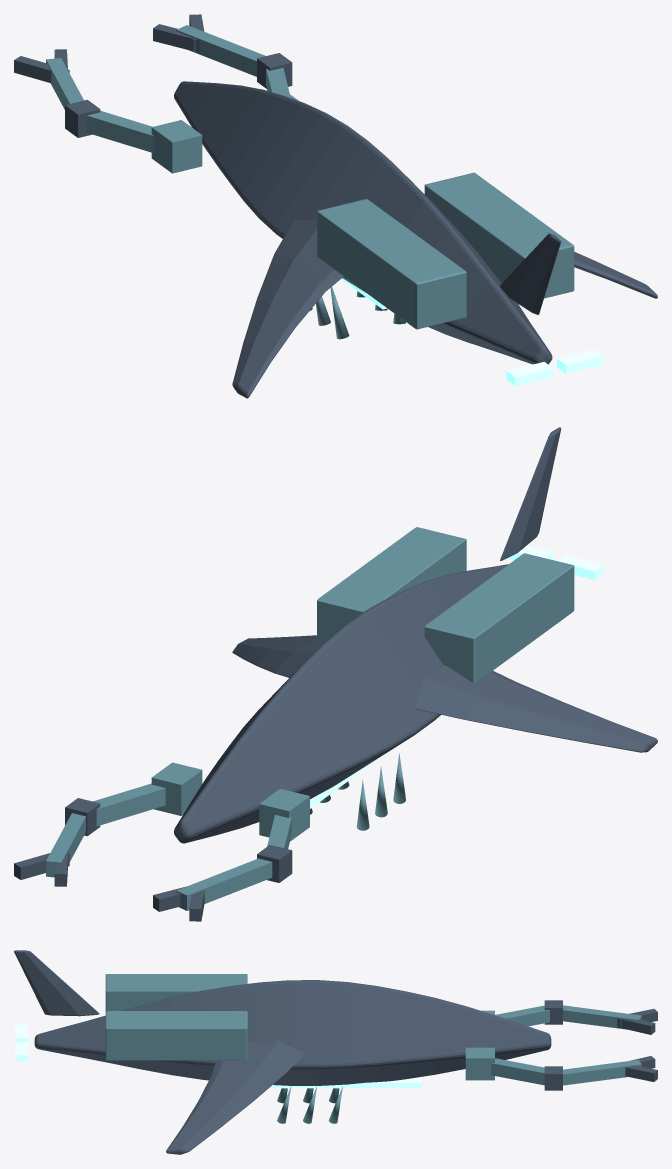
File: shadur-kai-harvester.glb
3 renders of one model, top to bottom at view 1: azimuth 30°, elevation 25°; view 2: azimuth 150°, elevation 25°; view 3: azimuth 270°, elevation 25°, orthographic. The views are drawn at different scales.
Visible parts, largest first — view 1: hull, Cube.012, Cube.013, wing, fin, Cube, Cube.001, Cube.009, wing.001, Cube.003, Cube.002, Cube.017 (+4 smaller); view 2: hull, Cube.012, wing, Cube.013, fin, wing.001, Cube.003, Cube.006, Cube.007, Cube, Cube.009, Cube.002 (+1 smaller); view 3: hull, Cube.013, wing.001, Cube.012, fin, Cube.009, Cube.003, Cube.007, Cube.006, Cube.016, Cube.001, Cube.008 (+3 smaller).
Part boxes in pixels (<box>): hull: <box>174,81,552,364</box>; Cube.012: <box>317,199,466,329</box>; Cube.013: <box>424,172,574,298</box>; wing: <box>232,219,343,398</box>; fin: <box>500,233,561,314</box>; Cube: <box>151,120,202,173</box>; Cube.001: <box>87,110,154,153</box>; Cube.009: <box>176,25,265,76</box>; wing.001: <box>574,252,657,298</box>; Cube.003: <box>46,58,83,109</box>; Cube.002: <box>65,99,100,137</box>; Cube.017: <box>506,362,553,386</box>; hull: <box>174,564,508,843</box>; Cube.012: <box>424,553,574,683</box>; wing: <box>415,665,657,752</box>; Cube.013: <box>317,527,466,644</box>; fin: <box>500,427,561,560</box>; wing.001: <box>232,635,321,677</box>; Cube.003: <box>176,858,272,910</box>; Cube.006: <box>151,762,202,815</box>; Cube.007: <box>93,783,165,826</box>; Cube: <box>259,788,309,841</box>; Cube.009: <box>46,813,85,877</box>; Cube.002: <box>257,845,292,882</box>; hull: <box>34,980,551,1085</box>; Cube.013: <box>105,1011,247,1060</box>; wing.001: <box>166,1040,305,1154</box>; Cube.012: <box>105,974,247,1011</box>; fin: <box>14,950,99,1016</box>; Cube.009: <box>563,1059,641,1085</box>; Cube.003: <box>563,1005,641,1029</box>; Cube.007: <box>491,1058,544,1085</box>; Cube.006: <box>465,1047,494,1080</box>; Cube.016: <box>269,1077,421,1088</box>; Cube.001: <box>495,1005,549,1026</box>; Cube.008: <box>544,1066,562,1090</box>.
Bounding box in the file's own units: 2.6 × 1.38 × 4.99.
